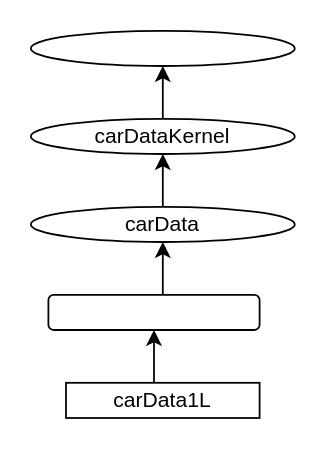
This 326x449 diagram has some shape labels left out. The centre of each missing label's shape, as x and y in pixels:
"carDataSecondary" belongs at (153,311).
"Standard" belongs at (162,47).
